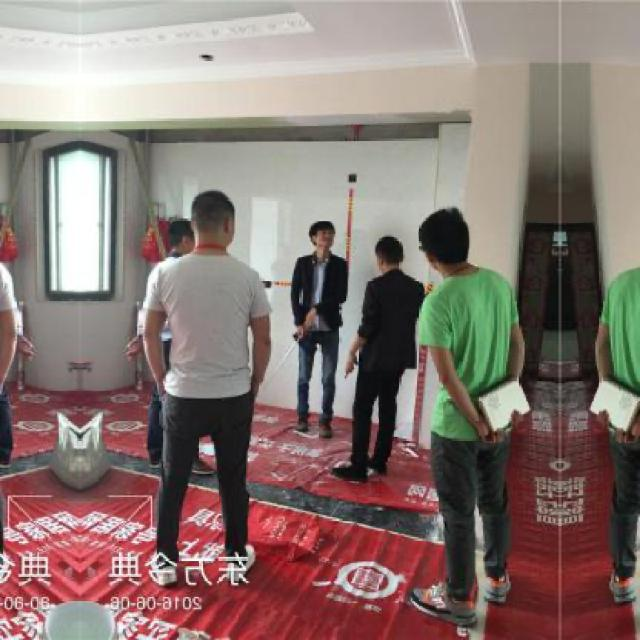sin casco: (145, 181, 253, 292), (411, 200, 516, 280), (288, 199, 353, 283), (360, 235, 424, 261)
